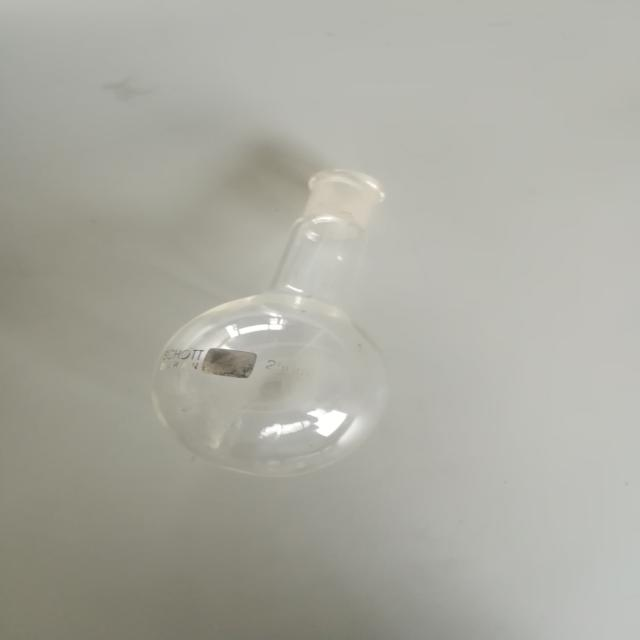Round_Bottom_Flask_Borosilicate_Glass_1_Neck: (121, 125, 473, 508)
